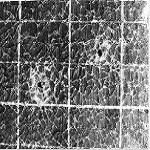Crack: (2, 3, 149, 149)
